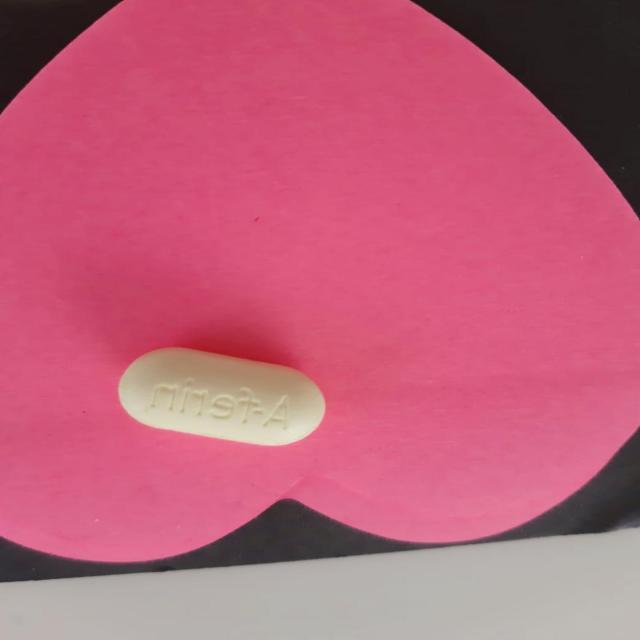pill: (113, 342, 328, 448)
